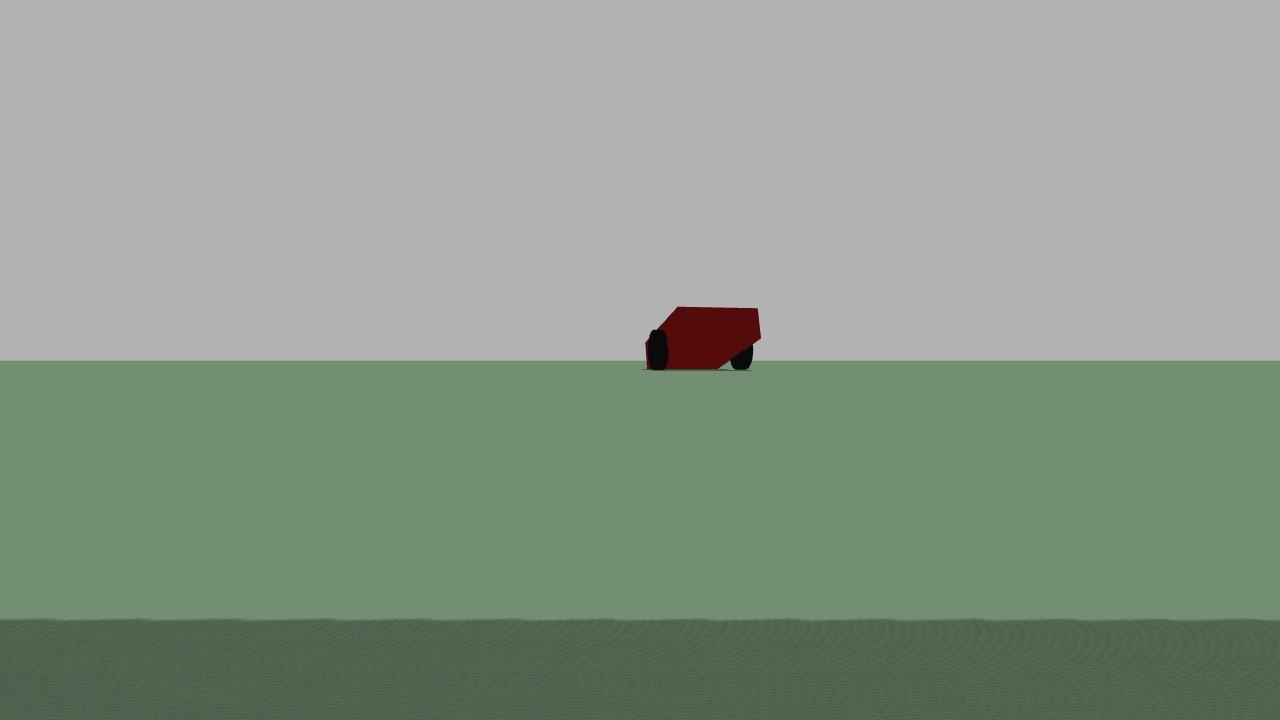ground_vehicle: (640, 294, 765, 381)
